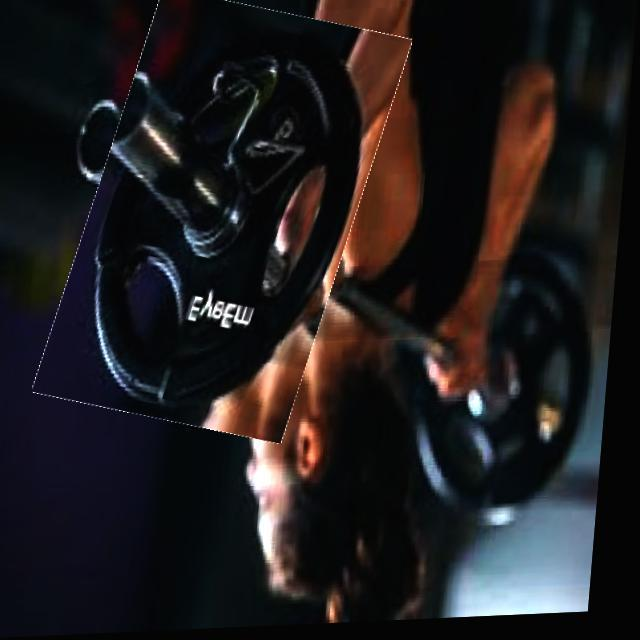barbell: (59, 1, 396, 443)
